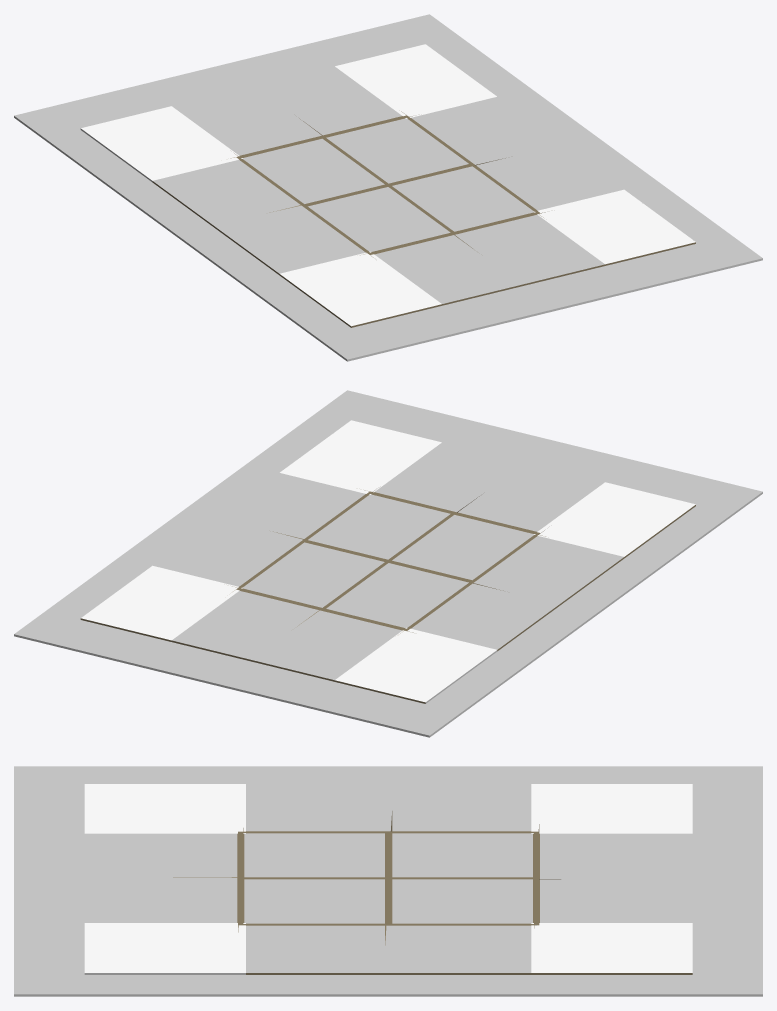
Rendered from Ceiling.glb.
The picture shows the model from 3 angles, top to bottom: view 1: azimuth 30°, elevation 25°; view 2: azimuth 150°, elevation 25°; view 3: azimuth 270°, elevation 25°; orthographic projection. The views are drawn at different scales.
Parts seen in each view (by area): view 1: Cube.010; view 2: Cube.010; view 3: Cube.010.
Part boxes in pixels (<box>): Cube.010: <box>14,14,762,361</box>; Cube.010: <box>14,390,762,737</box>; Cube.010: <box>14,766,762,996</box>.
Size of the model in its own units: 12.56 by 0.1084 by 17.45.
